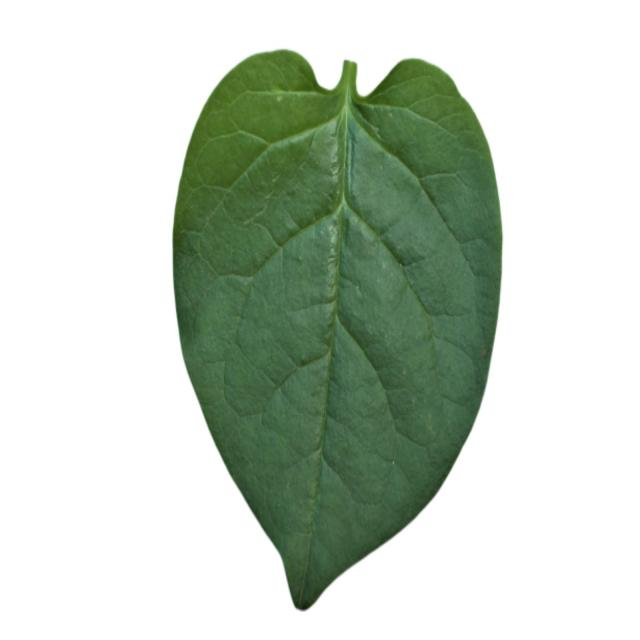Medicinal-Basale: (170, 47, 502, 607)
